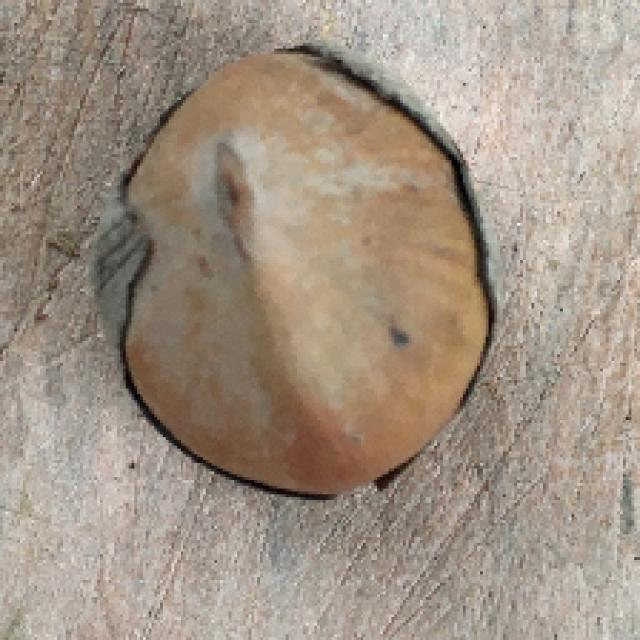damagedHazelnut: (89, 40, 499, 503)
